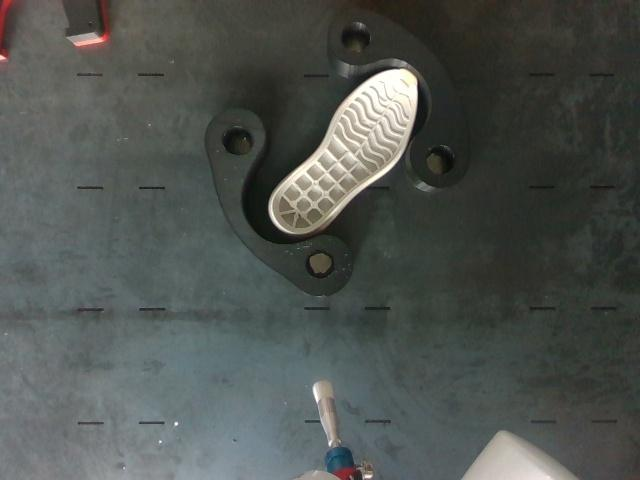shoes: (272, 70, 416, 233)
